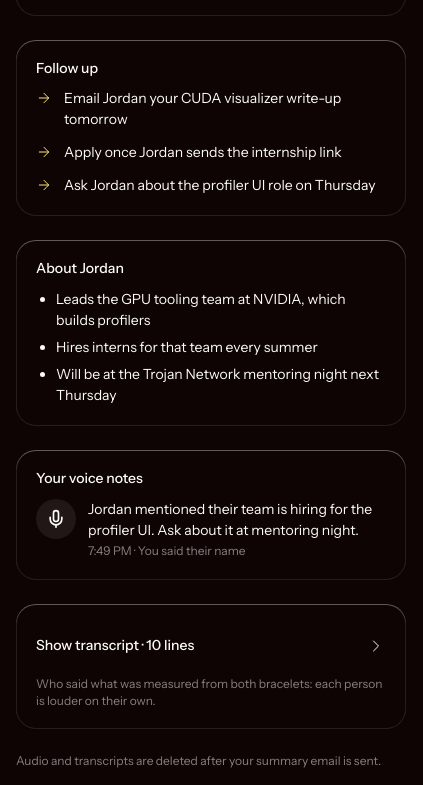
notes screen › shows the sample conversation, labelled as a sample
(page scrolled)
Expected: the text "I'm a junior in computer science" is not shown
Click the button "Show transcript · 10 lines" at [115, 645], box [36, 624, 386, 668]
(page scrolled)
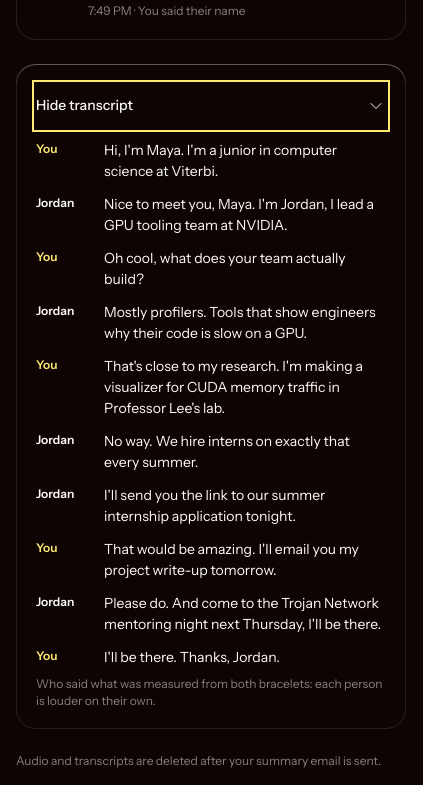
Expected: the text "measured from both bracelets" is shown, [36, 676, 383, 708]
Now the text "Hi, I'm Maya. I'm a junior in computer science at Viterbi." is shown, box [104, 141, 337, 180]
